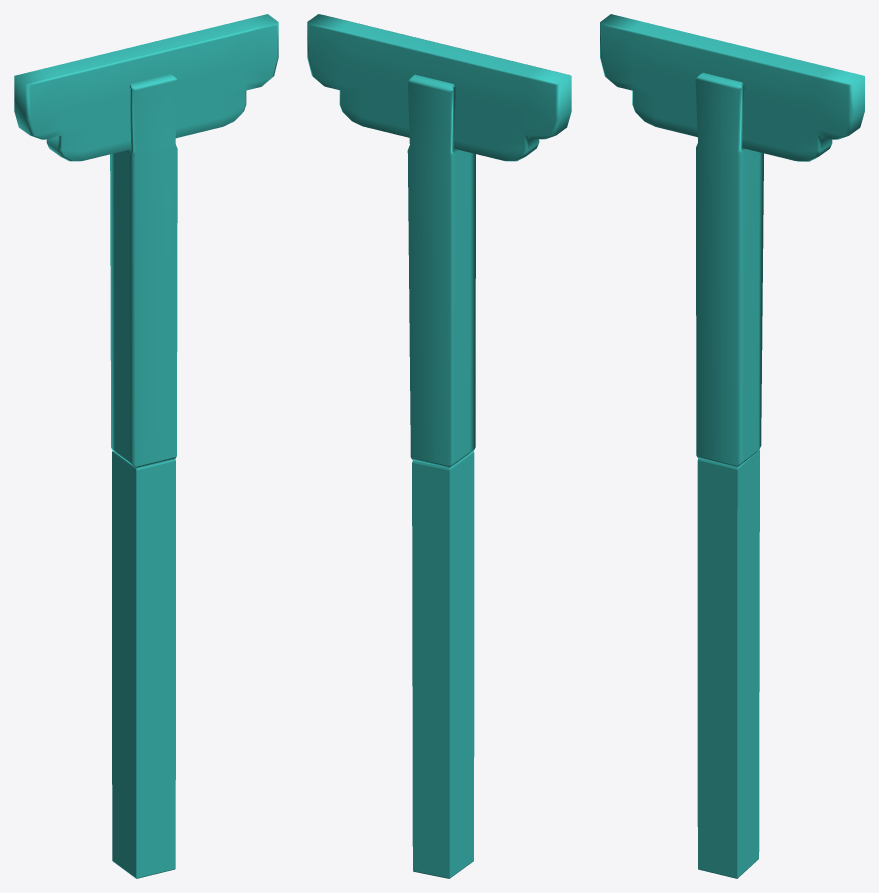
File: Wood_Pillar_01_Lod0.fbx
The picture shows the model from 3 angles, left to right: view 1: azimuth 30°, elevation 25°; view 2: azimuth 150°, elevation 25°; view 3: azimuth 330°, elevation 25°; orthographic projection.
Parts seen in each view (by area): view 1: Wood_Pillar_01_Lod0; view 2: Wood_Pillar_01_Lod0; view 3: Wood_Pillar_01_Lod0.
Boxes of the visible parts, <box> form: Wood_Pillar_01_Lod0: <box>14,14,278,878</box>; Wood_Pillar_01_Lod0: <box>307,14,571,878</box>; Wood_Pillar_01_Lod0: <box>600,14,864,878</box>.
Bounding box in the file's own units: 194 × 596 × 35.44.
